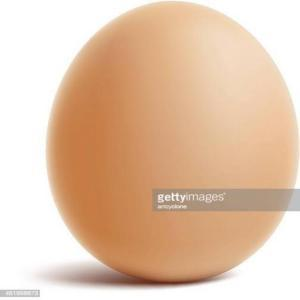Egg: (42, 0, 297, 288)
